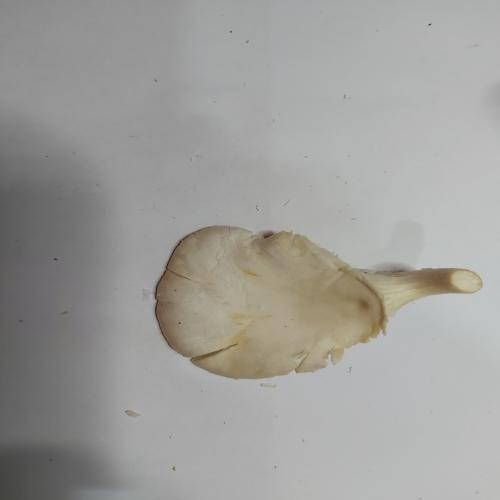Oyster Mushroom: (153, 224, 483, 380)
